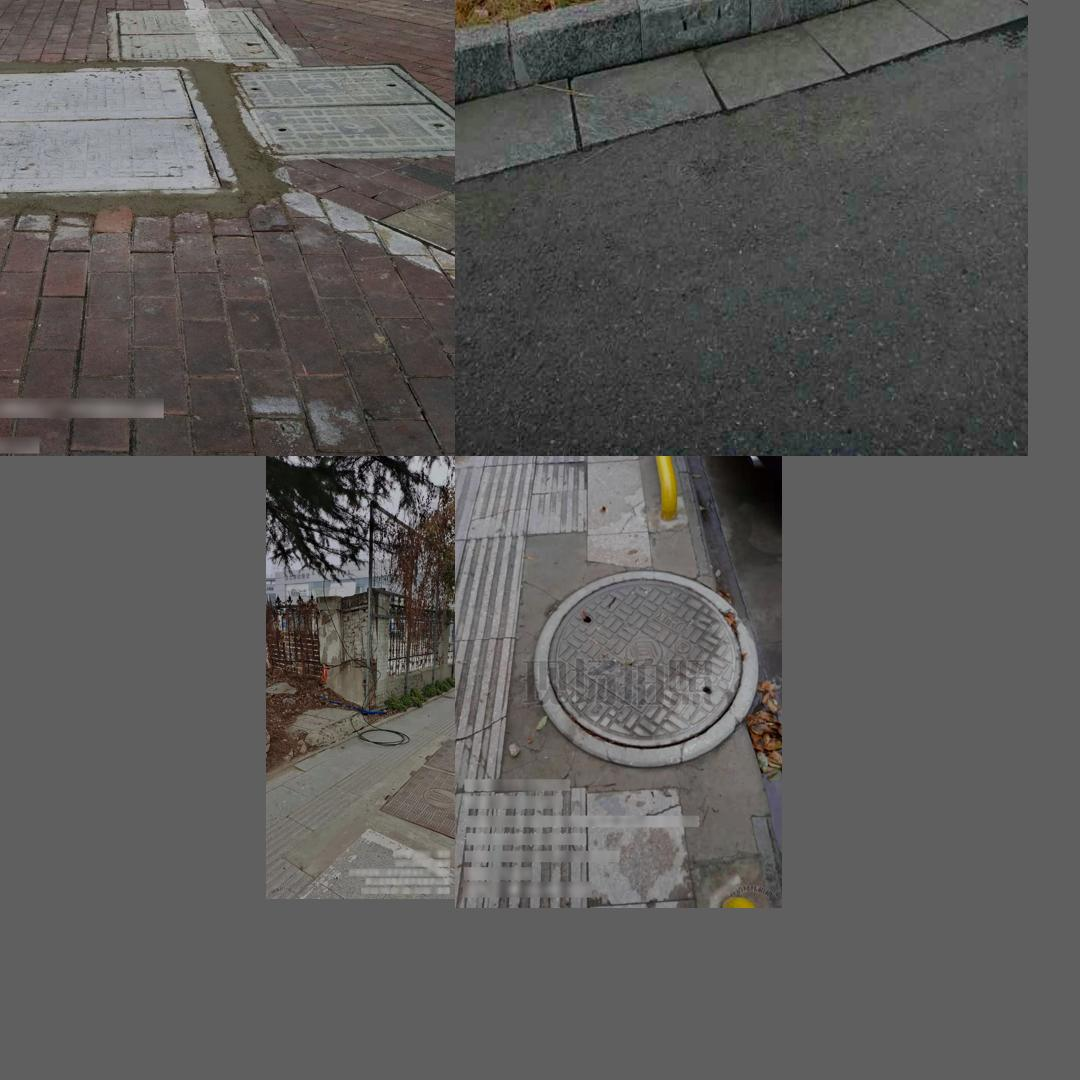good: (534, 569, 758, 767), (0, 65, 242, 199), (222, 63, 455, 160), (105, 6, 294, 66), (295, 827, 451, 899)
